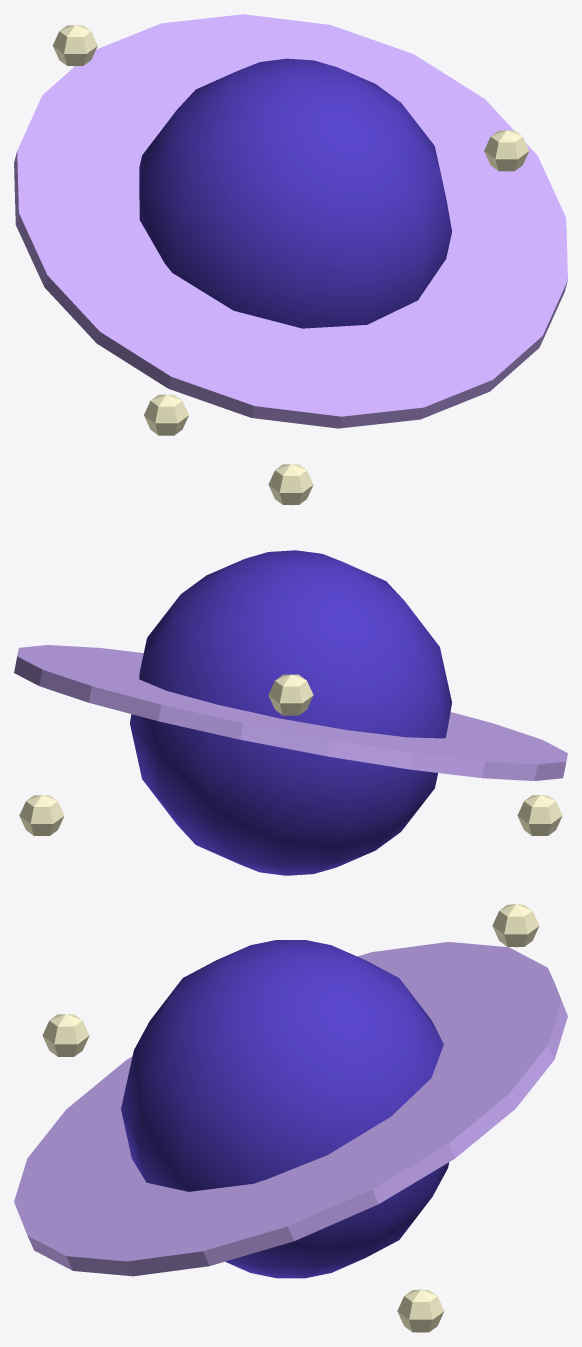
File: Fruto_GalaxyFruit.fbx
3 views of the same model, one above another, from view 1: azimuth 30°, elevation 25°; view 2: azimuth 150°, elevation 25°; view 3: azimuth 270°, elevation 25° (orthographic). The views are drawn at different scales.
Parts seen in each view (by area): view 1: Cabo_GalaxyFruit, Produto_GalaxyFruit; view 2: Produto_GalaxyFruit, Cabo_GalaxyFruit; view 3: Cabo_GalaxyFruit, Produto_GalaxyFruit.
Boxes of the visible parts, <box> form: Cabo_GalaxyFruit: <box>14,14,567,435</box>; Produto_GalaxyFruit: <box>139,58,451,328</box>; Produto_GalaxyFruit: <box>130,550,451,875</box>; Cabo_GalaxyFruit: <box>14,464,567,835</box>; Cabo_GalaxyFruit: <box>14,904,567,1332</box>; Produto_GalaxyFruit: <box>121,940,449,1278</box>.
Bounding box in the file's own units: 1 × 0.576 × 0.9384.
1 material, 1 textured.
